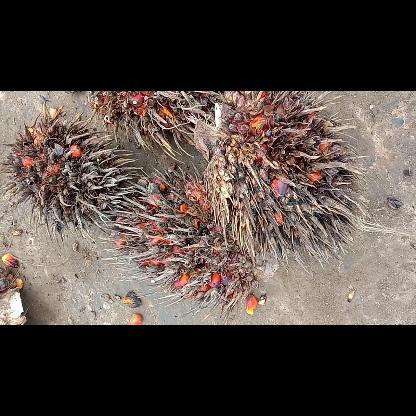Terlalu masak: (186, 90, 368, 272), (96, 158, 282, 324), (0, 99, 153, 251), (82, 90, 235, 168)
